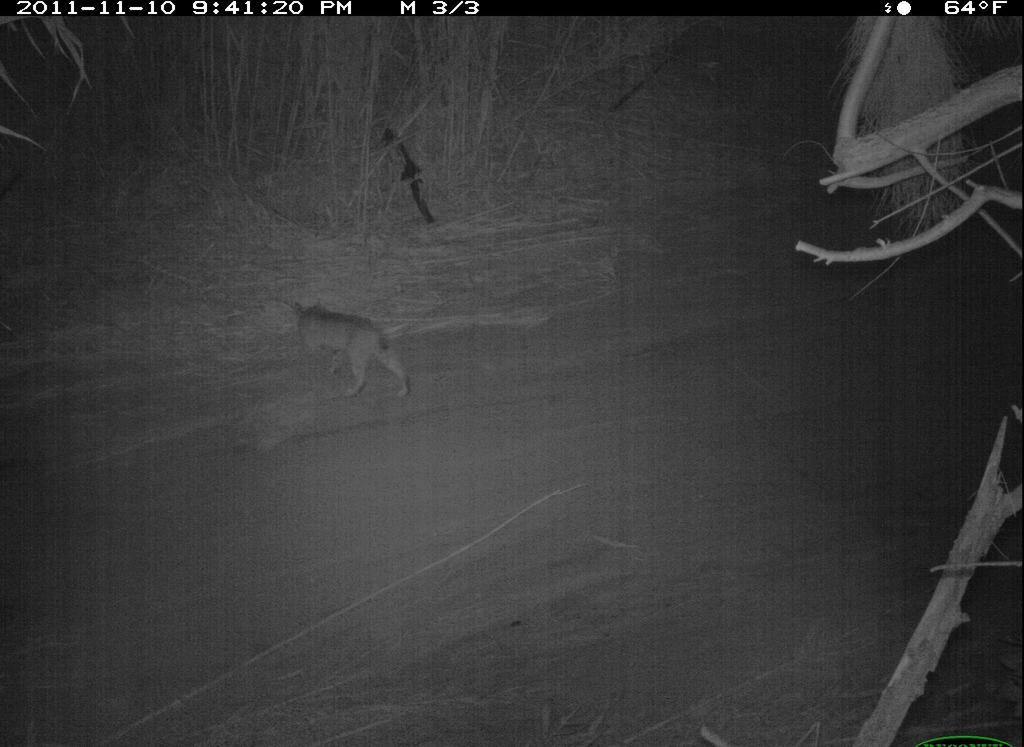bobcat: (286, 296, 415, 414)
